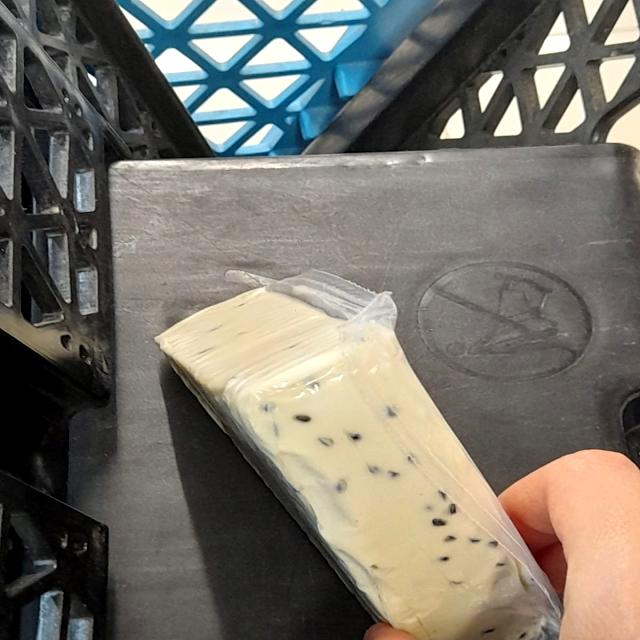cheese: (167, 276, 553, 640)
